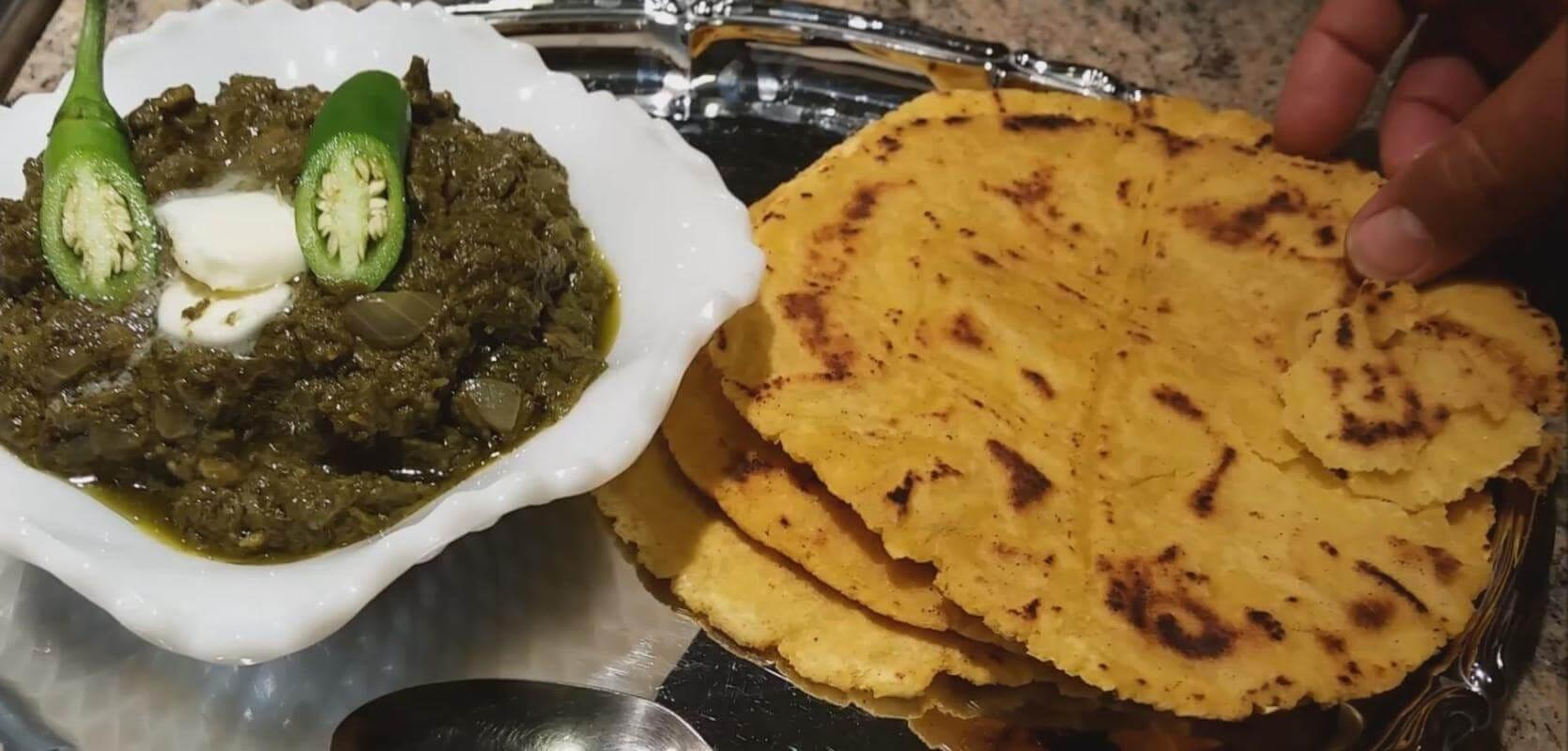saag: (0, 74, 614, 561)
